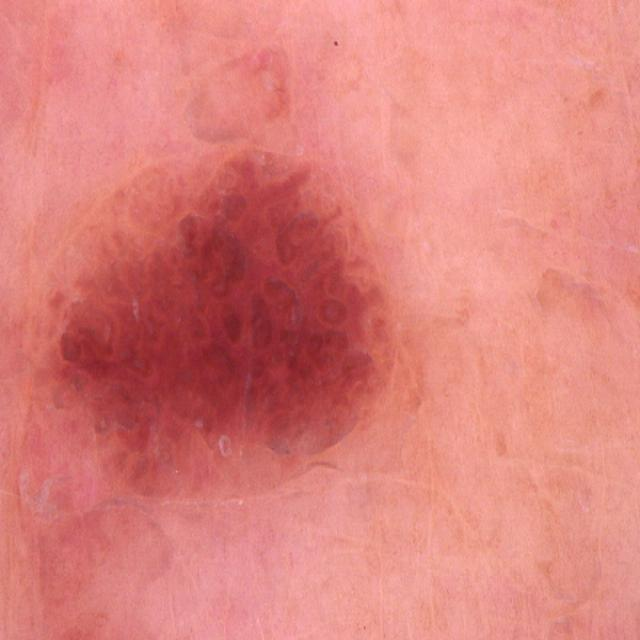Skin-Cancer Pigmented benign keratosis: (40, 53, 538, 628)
